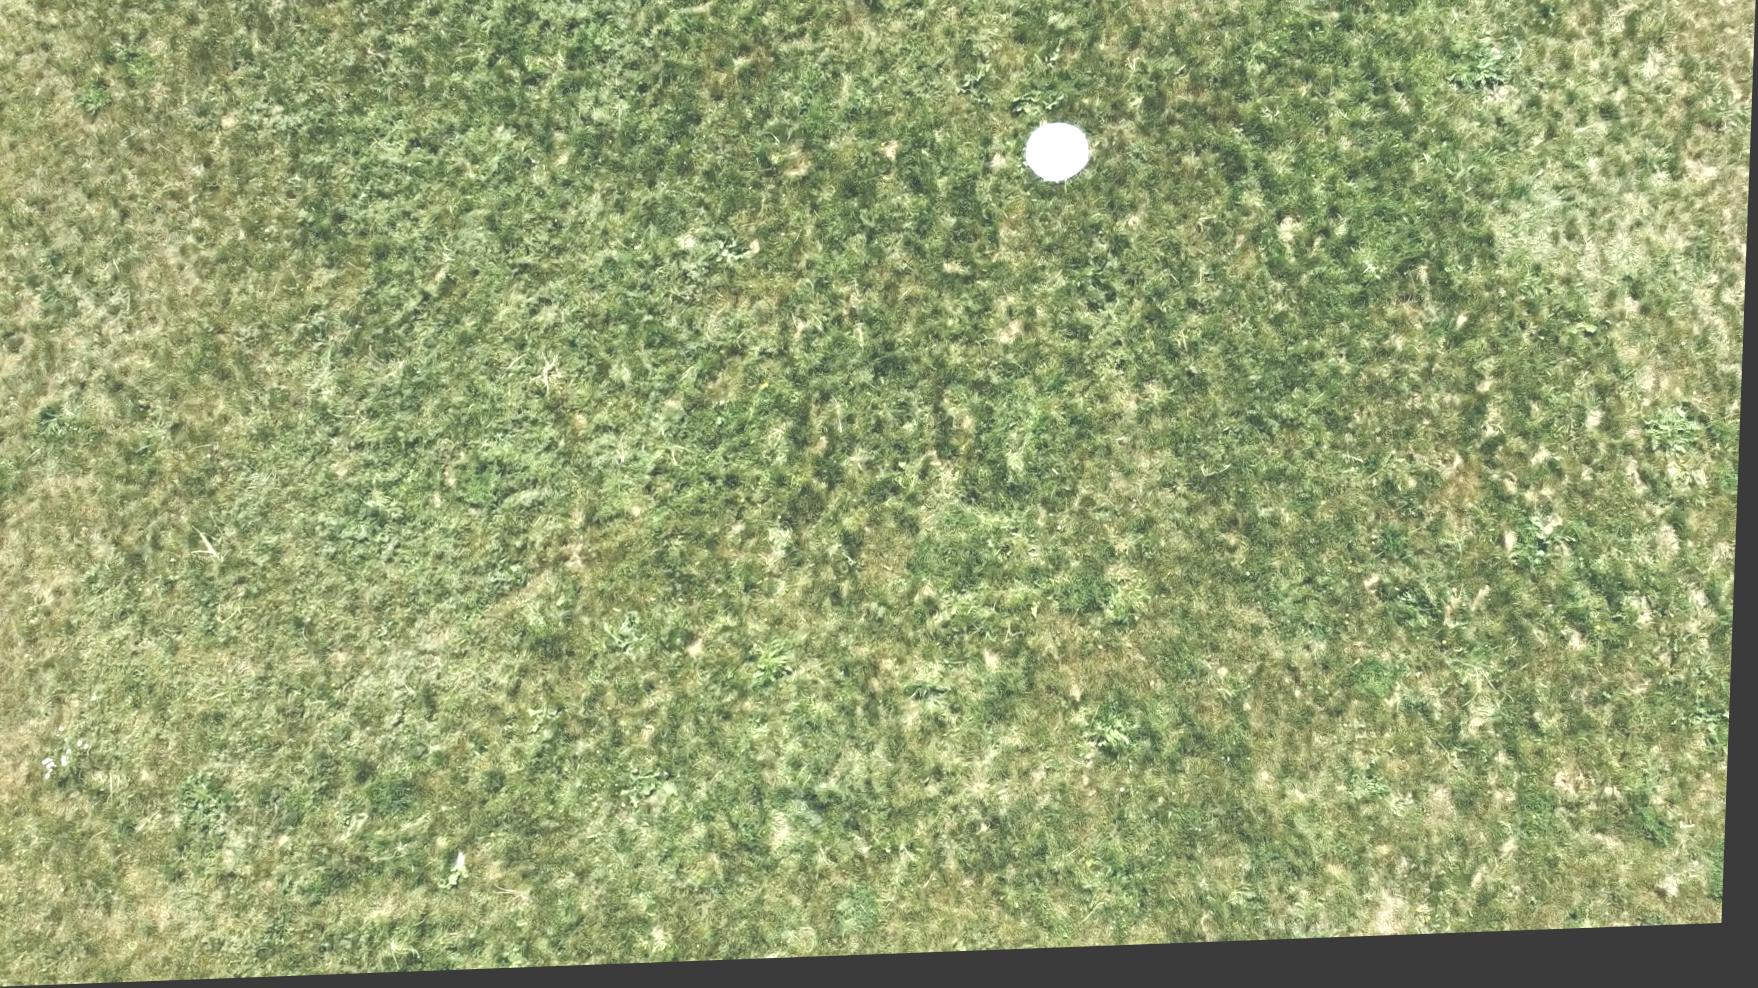Blue: (1021, 127, 1094, 192)
